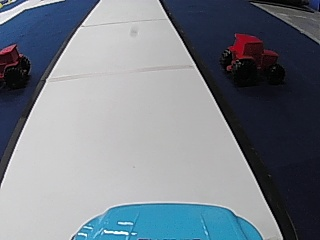tractor: (218, 31, 286, 86), (0, 42, 30, 90)
